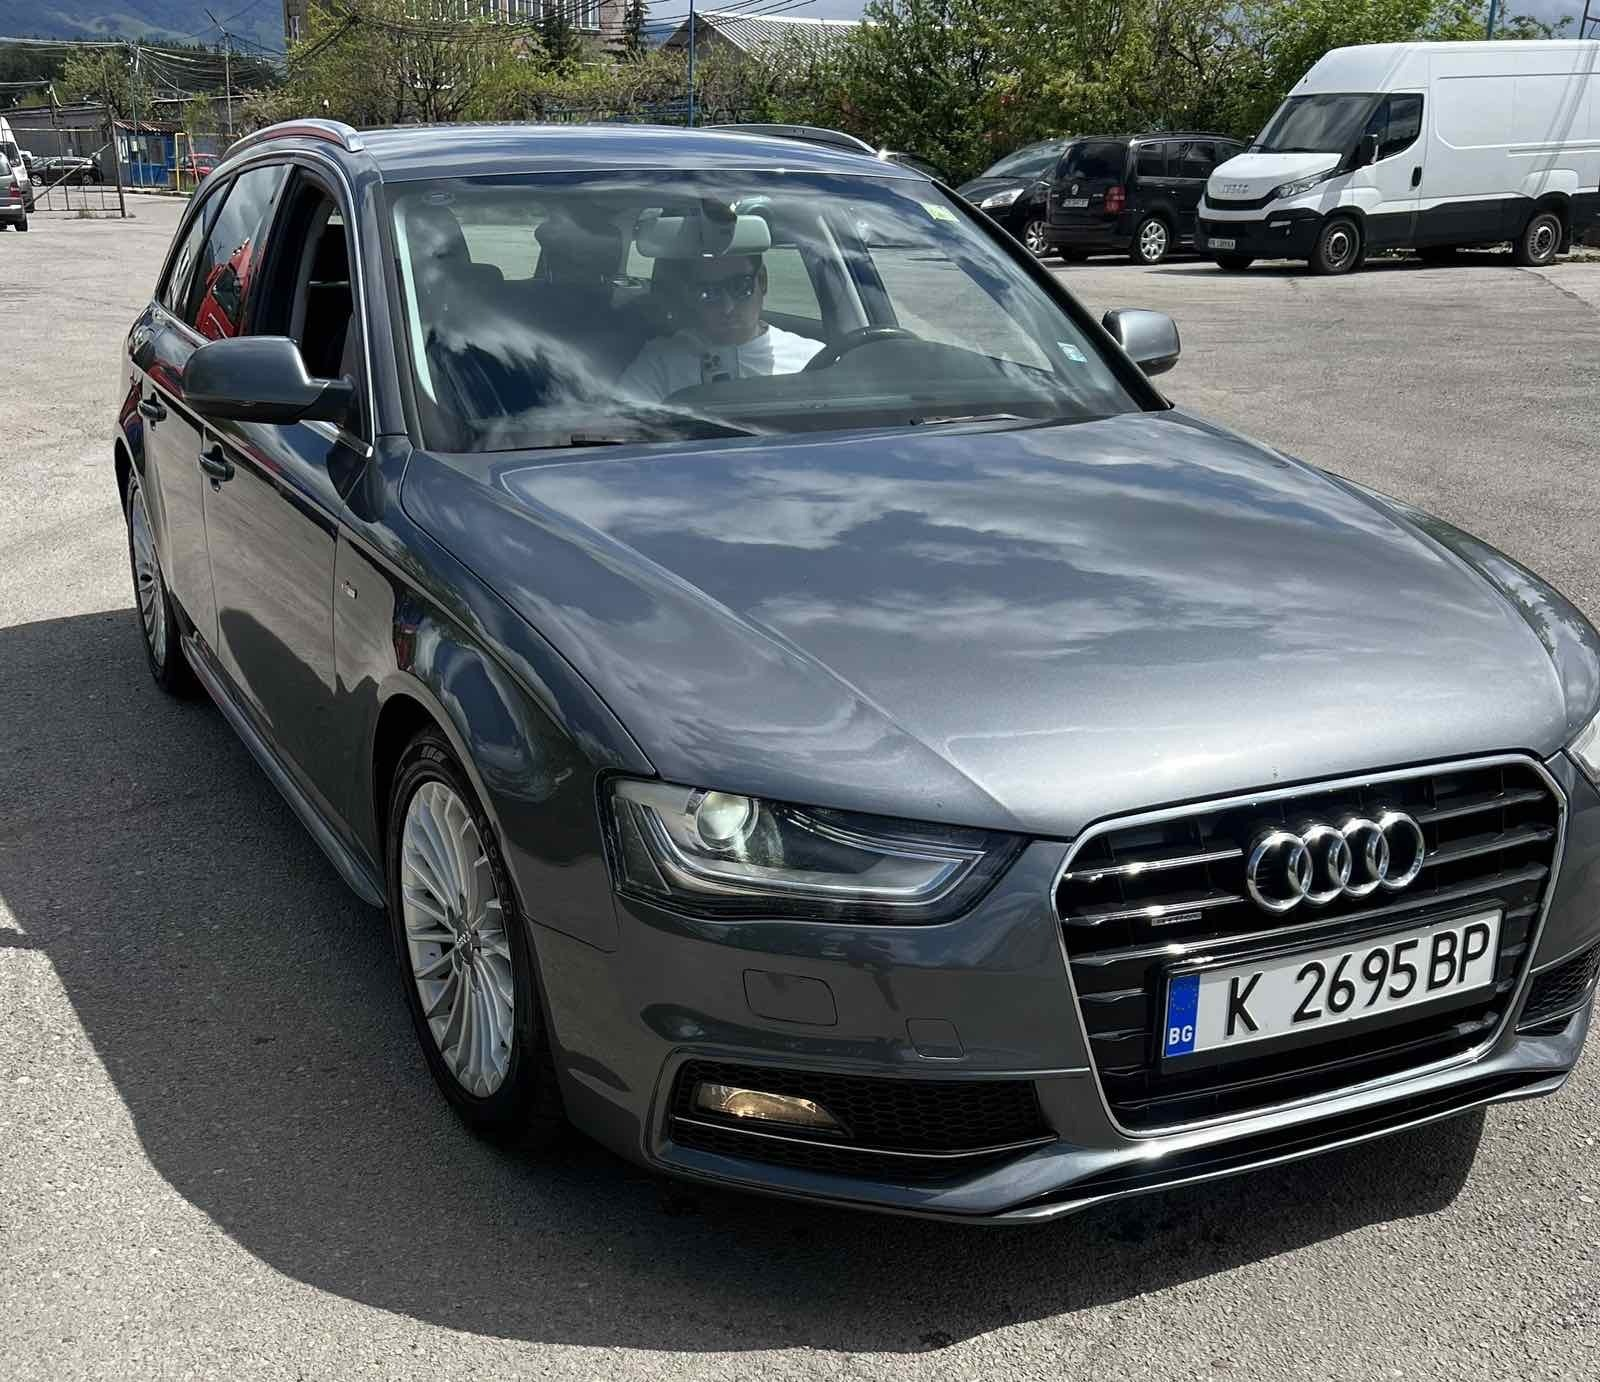registration_plate: (1167, 921, 1507, 1082)
